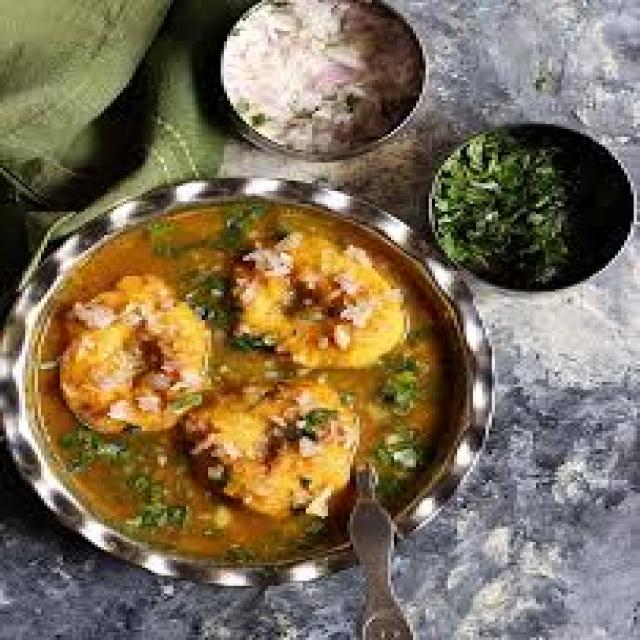MEDU VADA: (180, 374, 356, 519), (60, 274, 214, 431), (236, 232, 400, 366)
